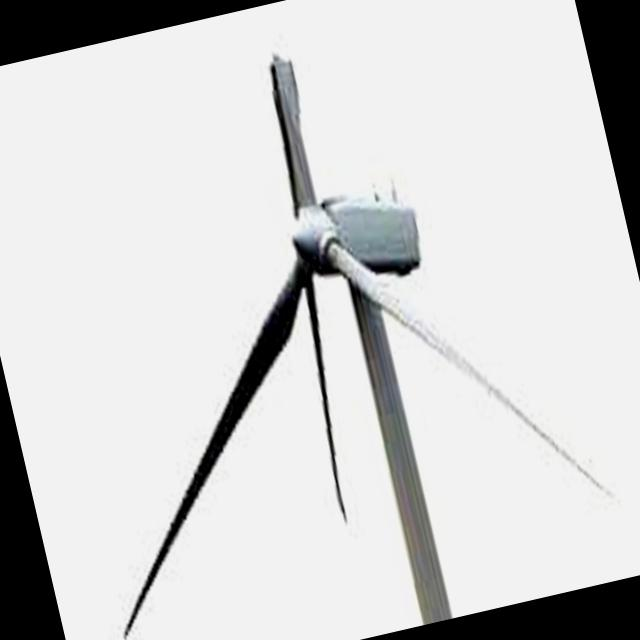crack: (214, 31, 413, 534)
